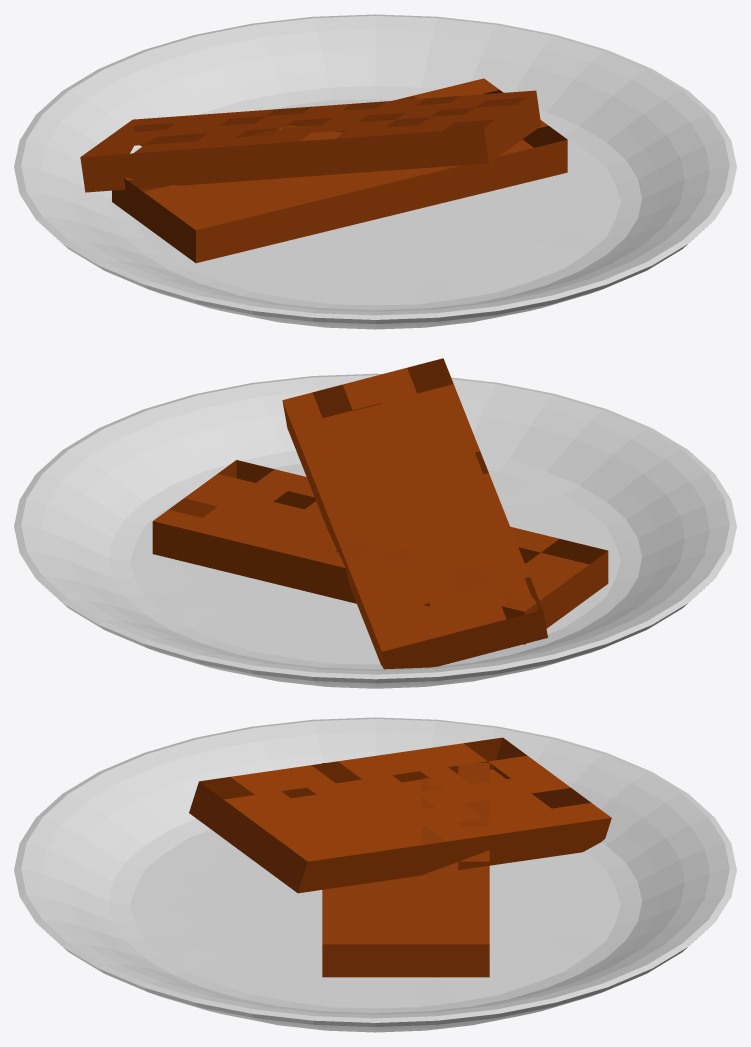
The model's file is kue bapel.fbx.
The picture shows the model from 3 angles, top to bottom: view 1: azimuth 30°, elevation 25°; view 2: azimuth 150°, elevation 25°; view 3: azimuth 270°, elevation 25°; orthographic projection.
Parts seen in each view (by area): view 1: Cylinder, Cube.001, Cube; view 2: Cylinder, Cube.001, Cube; view 3: Cylinder, Cube.001, Cube.
Boxes of the visible parts, x1=… form: Cylinder: x1=14, y1=14, x2=736, y2=329; Cube.001: x1=80, y1=90, x2=541, y2=192; Cube: x1=112, y1=78, x2=567, y2=263; Cylinder: x1=14, y1=373, x2=736, y2=688; Cube.001: x1=282, y1=358, x2=547, y2=669; Cube: x1=152, y1=460, x2=608, y2=644; Cylinder: x1=14, y1=717, x2=736, y2=1032; Cube.001: x1=189, y1=737, x2=611, y2=893; Cube: x1=322, y1=763, x2=489, y2=977.
Bounding box in the file's own units: 231 × 53.92 × 231.
